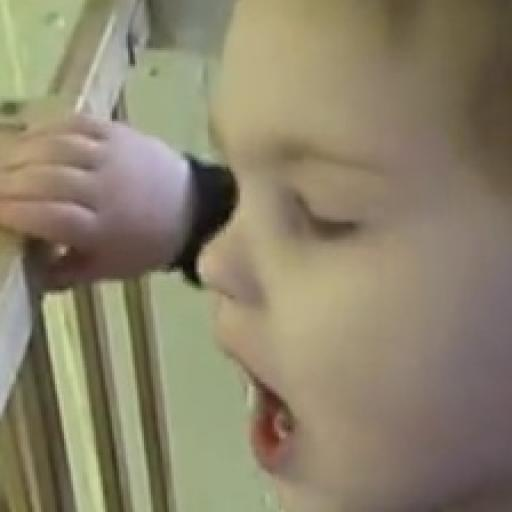Autism: (110, 5, 512, 494)
